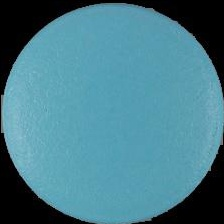53808-0601: (0, 0, 224, 224)
